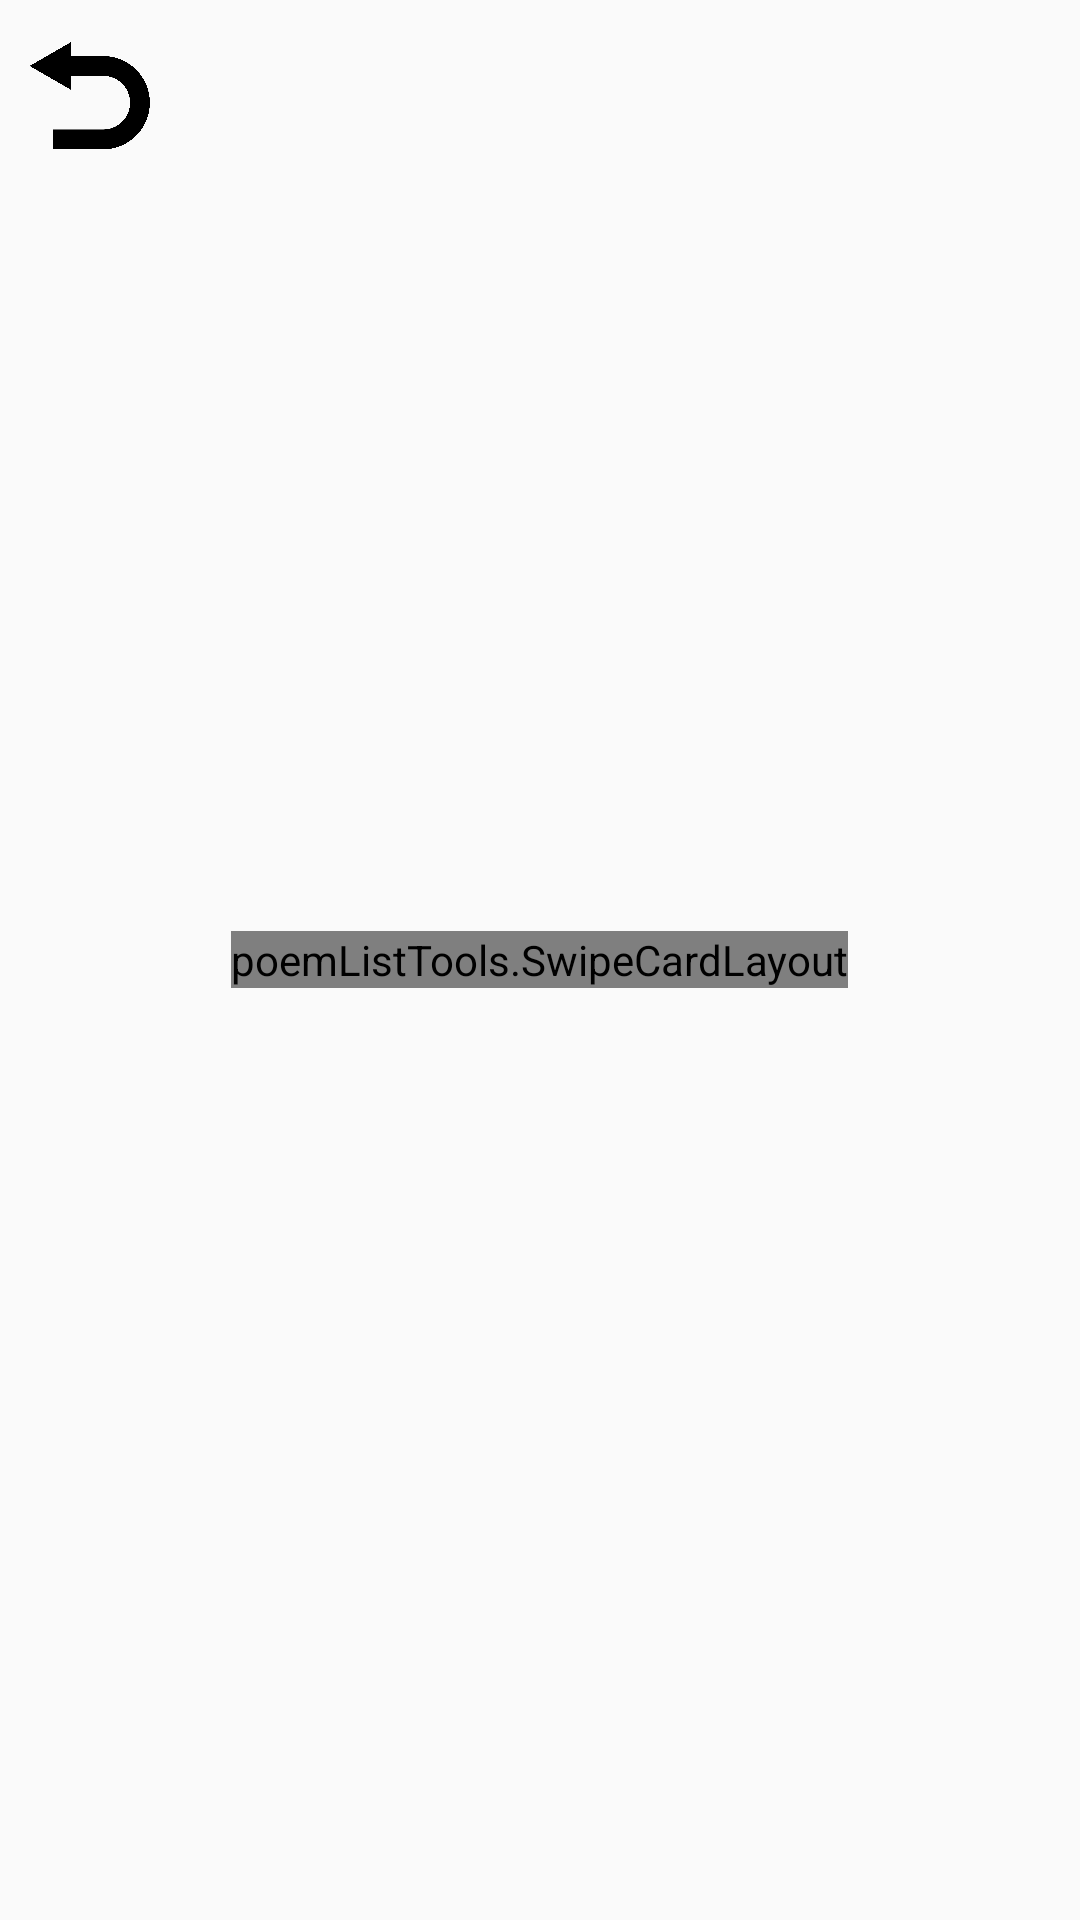

Named icons in this screenshot (1080 × 1920) and their bounding boxes, {"left": x1, "top": y1, "right": x2, "bottom": y2}:
back arrow: {"left": 30, "top": 42, "right": 150, "bottom": 149}
